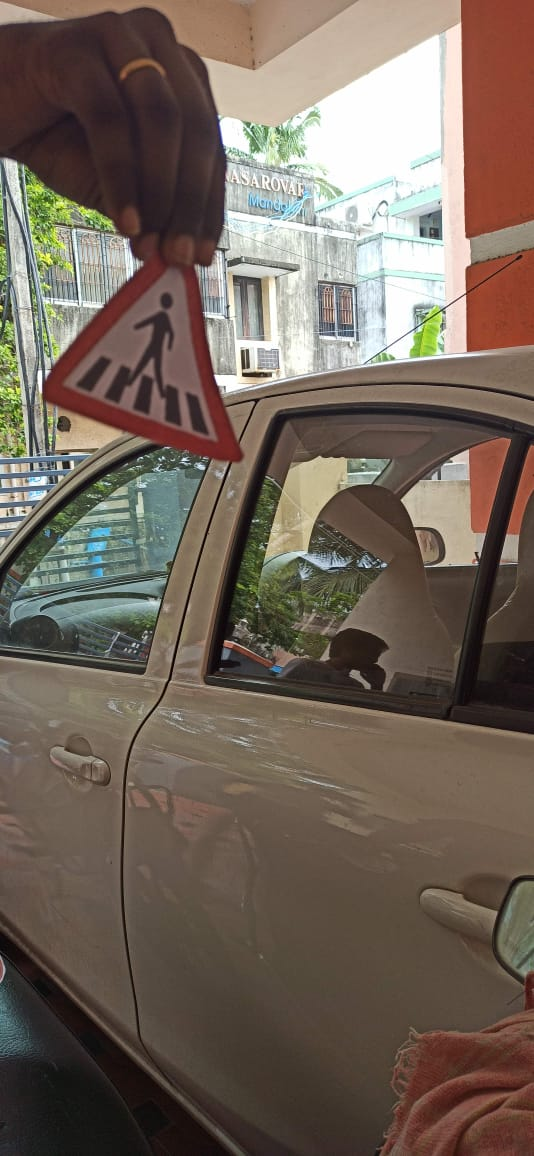PEDESTRIAN CROSSING: (43, 239, 266, 470)
